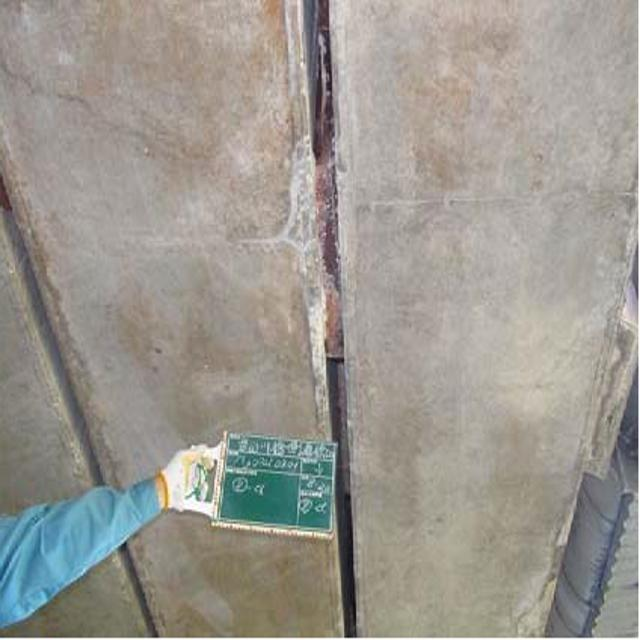freelime: (245, 122, 338, 408)
